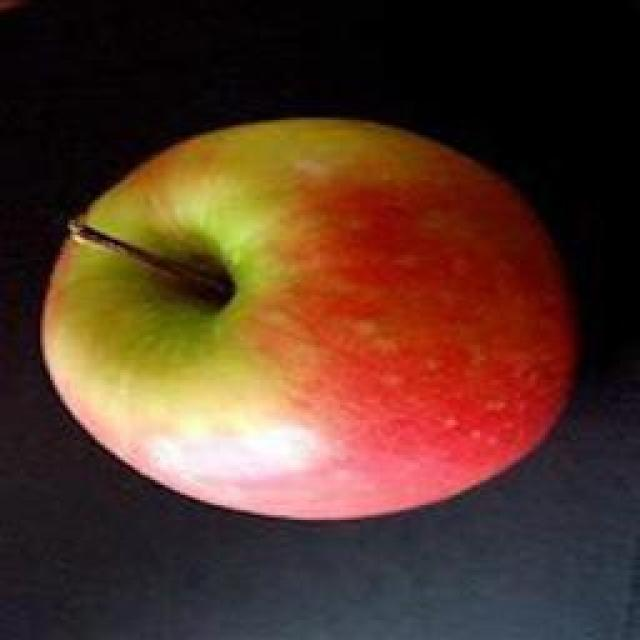Apple: (42, 119, 576, 519)
